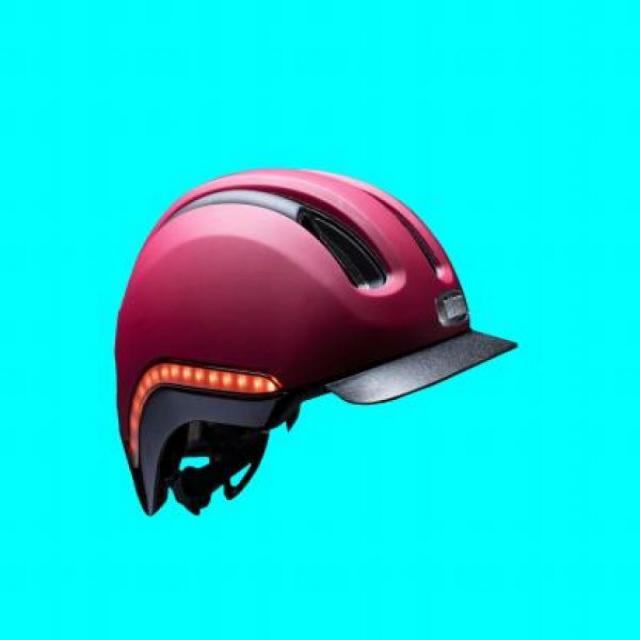Helmet: (109, 152, 512, 518)
